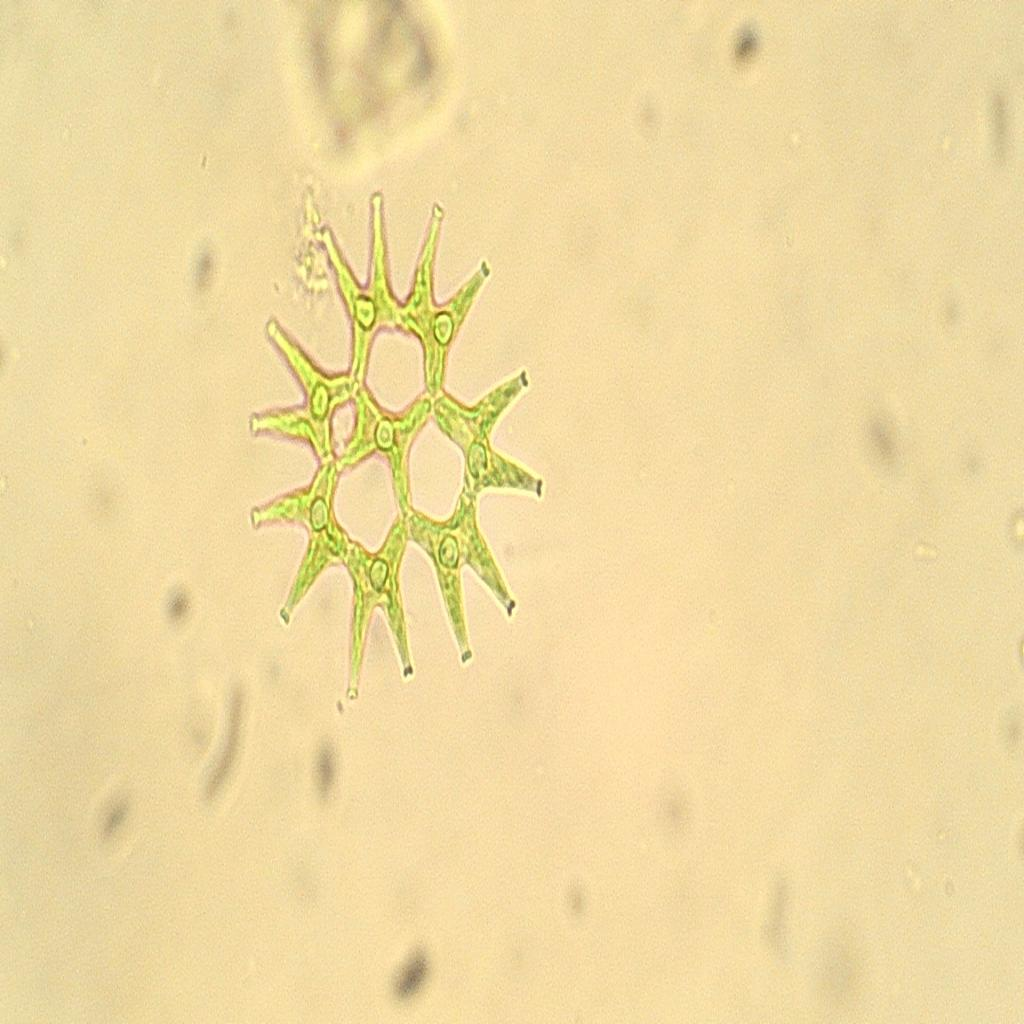Pediastrum_CTH: (232, 178, 556, 712)
